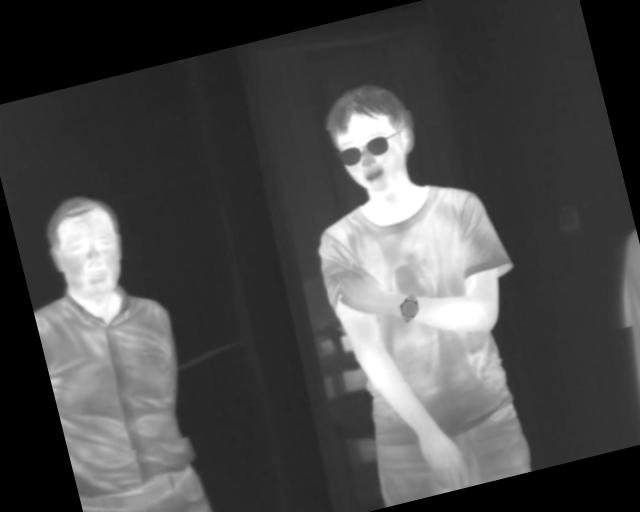face: (315, 73, 428, 202), (36, 186, 134, 310)
